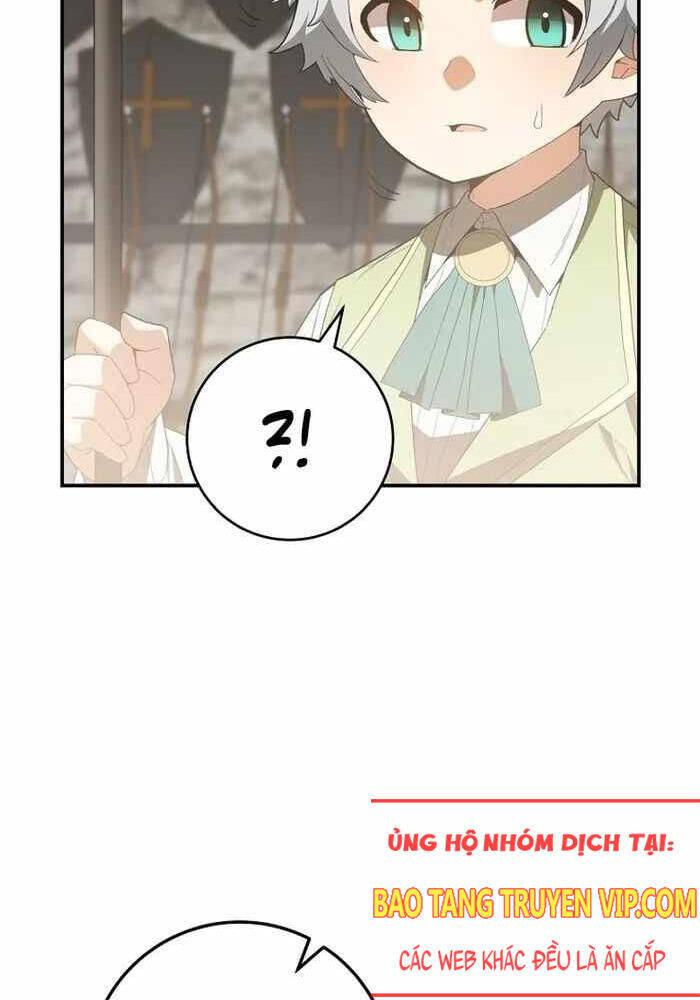quangcao: (367, 794, 700, 1000)
